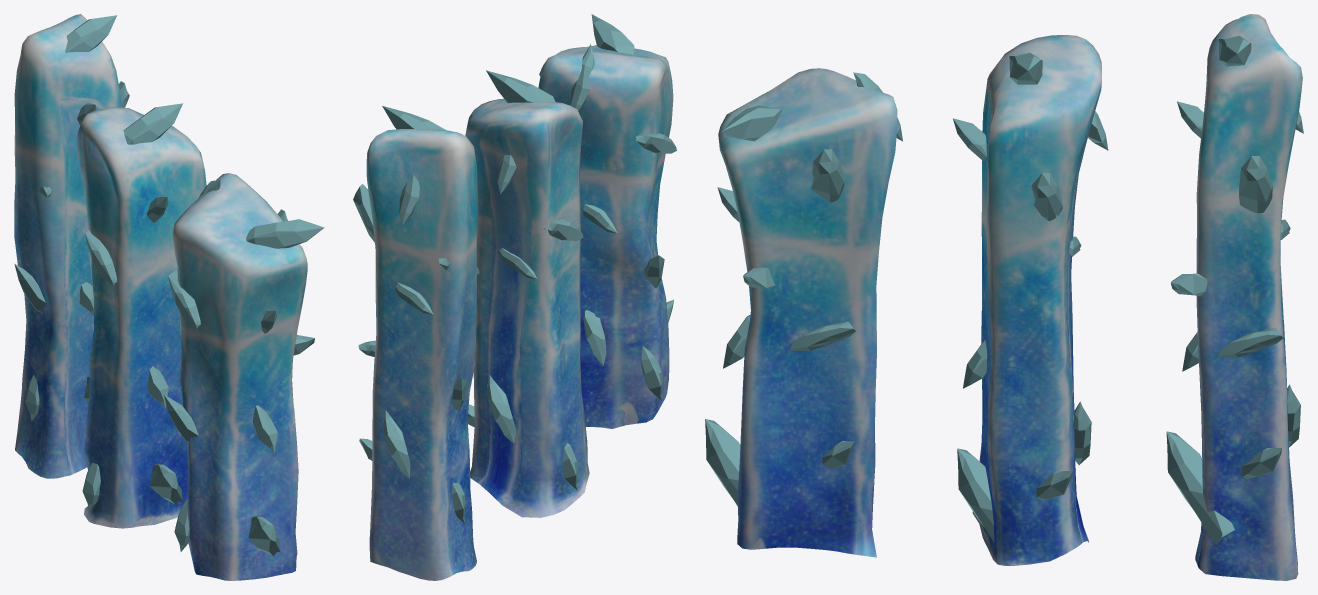
File: crystalicepilars.fbx
3 renders of one model, left to right at view 1: azimuth 30°, elevation 25°; view 2: azimuth 150°, elevation 25°; view 3: azimuth 270°, elevation 25°, orthographic. The views are drawn at different scales.
Parts seen in each view (by area): view 1: polySurface2, polySurface1, polySurface3, polySurface7, polySurface28, polySurface44, polySurface22, polySurface14, polySurface24, polySurface6, polySurface13, polySurface10 (+5 smaller); view 2: polySurface3, polySurface1, polySurface2, polySurface28, polySurface29, polySurface7, polySurface38, polySurface8, polySurface16, polySurface11, polySurface44, polySurface34 (+9 smaller); view 3: polySurface2, polySurface1, polySurface3, polySurface39, polySurface22, polySurface14, polySurface43, polySurface7, polySurface12, polySurface40, polySurface5, polySurface19 (+5 smaller).
Part boxes in pixels (x1=…): polySurface2: x1=172, y1=173, x2=307, y2=580; polySurface1: x1=76, y1=107, x2=206, y2=528; polySurface3: x1=14, y1=14, x2=121, y2=478; polySurface7: x1=246, y1=219, x2=324, y2=248; polySurface28: x1=123, y1=103, x2=182, y2=144; polySurface44: x1=65, y1=15, x2=116, y2=52; polySurface22: x1=150, y1=463, x2=182, y2=504; polySurface14: x1=248, y1=516, x2=280, y2=555; polySurface24: x1=85, y1=230, x2=117, y2=286; polySurface6: x1=168, y1=270, x2=200, y2=328; polySurface13: x1=164, y1=394, x2=198, y2=441; polySurface10: x1=252, y1=405, x2=277, y2=453; polySurface3: x1=366, y1=129, x2=478, y2=580; polySurface1: x1=465, y1=98, x2=589, y2=517; polySurface2: x1=538, y1=45, x2=673, y2=428; polySurface28: x1=486, y1=70, x2=555, y2=102; polySurface29: x1=487, y1=375, x2=515, y2=443; polySurface7: x1=591, y1=14, x2=634, y2=54; polySurface38: x1=383, y1=410, x2=410, y2=478; polySurface8: x1=583, y1=310, x2=606, y2=365; polySurface16: x1=570, y1=44, x2=594, y2=111; polySurface11: x1=640, y1=346, x2=662, y2=400; polySurface44: x1=382, y1=106, x2=445, y2=129; polySurface34: x1=399, y1=174, x2=420, y2=225; polySurface2: x1=718, y1=68, x2=897, y2=557; polySurface1: x1=972, y1=35, x2=1101, y2=565; polySurface3: x1=1195, y1=14, x2=1302, y2=580; polySurface39: x1=1166, y1=431, x2=1234, y2=544; polySurface22: x1=957, y1=448, x2=994, y2=542; polySurface14: x1=705, y1=419, x2=740, y2=506; polySurface43: x1=1239, y1=156, x2=1273, y2=213; polySurface7: x1=722, y1=105, x2=782, y2=141; polySurface12: x1=811, y1=149, x2=844, y2=202; polySurface40: x1=1217, y1=328, x2=1283, y2=357; polySurface5: x1=790, y1=321, x2=855, y2=350; polySurface19: x1=1031, y1=173, x2=1062, y2=220.
Bounding box in the file's own units: 9.94 × 31.09 × 31.04.
